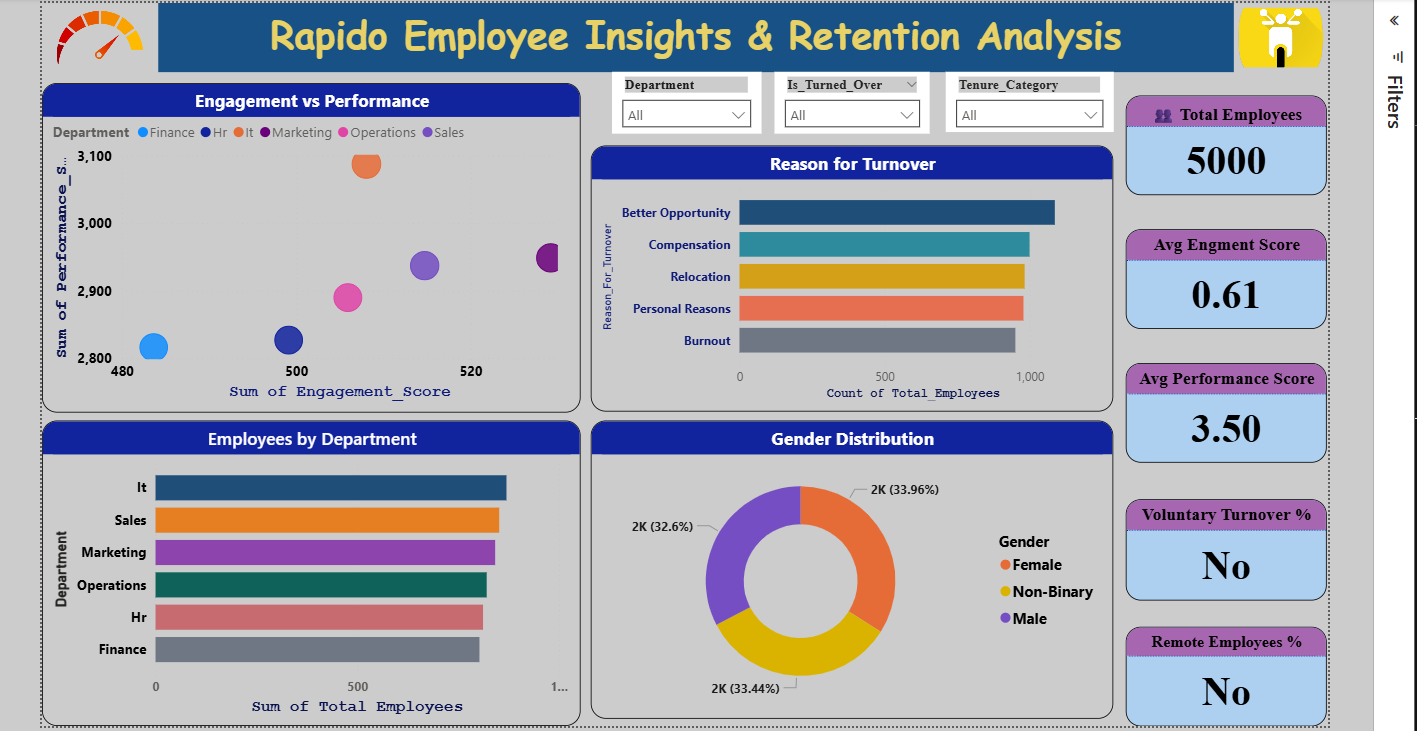

The page's visual inventory and layout, read from the dashboard file:
{"tool":"powerbi","page":{"name":"Page 1","canvas":[1280,720],"ordinal":0},"visuals":[{"type":"textbox","box":[115.3,0,1070.3,68.6],"z":0},{"type":"image","box":[1185.6,0,94.7,68.6],"z":1000},{"type":"image","box":[0,0,115.3,68.6],"z":2000},{"type":"card","title":"Avg Performance Score","fields":{"Values":["Avg(Rapido_Employees_DAX_Free_PowerBI.Performance_Score)"]},"box":[1078.5,358.3,200,99.4],"z":3000},{"type":"card","title":"Avg Engment Score","fields":{"Values":["Avg(Rapido_Employees_DAX_Free_PowerBI.Engagement_Score)"]},"box":[1078.5,225.8,200,99.4],"z":4000},{"type":"card","title":"Voluntary Turnover %","fields":{"Values":["Min(Rapido_Employees_DAX_Free_PowerBI.Voluntary_Turnover)"]},"box":[1078.5,493.3,200,100.6],"z":5000},{"type":"card","title":"👥 Total Employees","fields":{"Values":["Sum(Rapido_Employees_DAX_Free_PowerBI.Total_Employees)"]},"box":[1078.5,92,200,99.4],"z":6000},{"type":"card","title":"Remote Employees %","fields":{"Values":["Min(Rapido_Employees_DAX_Free_PowerBI.Is_Remote)"]},"box":[1078.5,620.9,200,99.4],"z":7000},{"type":"slicer","fields":{"Values":["Rapido_Employees_DAX_Free_PowerBI.Tenure_Category"]},"box":[899.4,68.7,166.9,60.1],"z":8000},{"type":"slicer","fields":{"Values":["Rapido_Employees_DAX_Free_PowerBI.Is_Turned_Over"]},"box":[728.8,68.7,154.6,61.4],"z":9000},{"type":"clusteredBarChart","title":"Employees by Department","fields":{"Category":["Rapido_Employees_DAX_Free_PowerBI.Department"],"Y":["Sum(Rapido_Employees_DAX_Free_PowerBI.Total_Employees)"]},"box":[0,416,536.2,304.3],"z":10000},{"type":"donutChart","title":"Gender Distribution","fields":{"Category":["Rapido_Employees_DAX_Free_PowerBI.Gender"],"Y":["Sum(Rapido_Employees_DAX_Free_PowerBI.Total_Employees)"]},"box":[546,416,520.2,296.9],"z":11000},{"type":"scatterChart","title":"Engagement vs Performance","fields":{"X":["Sum(Rapido_Employees_DAX_Free_PowerBI.Engagement_Score)"],"Y":["Sum(Rapido_Employees_DAX_Free_PowerBI.Performance_Score)"],"Series":["Rapido_Employees_DAX_Free_PowerBI.Department"],"Size":["Sum(Rapido_Employees_DAX_Free_PowerBI.Total_Employees)"]},"box":[0,79.8,536.2,327.6],"z":12000},{"type":"barChart","title":"Reason for Turnover","fields":{"Category":["Rapido_Employees_DAX_Free_PowerBI.Reason_For_Turnover"],"Y":["CountNonNull(Rapido_Employees_DAX_Free_PowerBI.Total_Employees)"]},"box":[546,142.3,520.2,265],"z":13000},{"type":"slicer","fields":{"Values":["Rapido_Employees_DAX_Free_PowerBI.Department"]},"box":[566.9,68.7,148.5,61.4],"z":14000}]}

Visuals, with their boxes in screenshot pixels (x1, y1, x2, y2):
textbox: pyautogui.locateOnScreen(156, 0, 1227, 69)
image: pyautogui.locateOnScreen(1227, 0, 1322, 69)
image: pyautogui.locateOnScreen(41, 0, 156, 69)
"Avg Performance Score" card: pyautogui.locateOnScreen(1120, 359, 1320, 458)
"Avg Engment Score" card: pyautogui.locateOnScreen(1120, 226, 1320, 325)
"Voluntary Turnover %" card: pyautogui.locateOnScreen(1120, 494, 1320, 594)
"👥 Total Employees" card: pyautogui.locateOnScreen(1120, 92, 1320, 192)
"Remote Employees %" card: pyautogui.locateOnScreen(1120, 621, 1320, 721)
slicer - Rapido_Employees_DAX_Free_PowerBI.Tenure_Category: pyautogui.locateOnScreen(941, 69, 1108, 129)
slicer - Rapido_Employees_DAX_Free_PowerBI.Is_Turned_Over: pyautogui.locateOnScreen(770, 69, 925, 130)
"Employees by Department" clusteredBarChart: pyautogui.locateOnScreen(41, 416, 577, 721)
"Gender Distribution" donutChart: pyautogui.locateOnScreen(587, 416, 1108, 713)
"Engagement vs Performance" scatterChart: pyautogui.locateOnScreen(41, 80, 577, 408)
"Reason for Turnover" barChart: pyautogui.locateOnScreen(587, 142, 1108, 408)
slicer - Rapido_Employees_DAX_Free_PowerBI.Department: pyautogui.locateOnScreen(608, 69, 757, 130)
